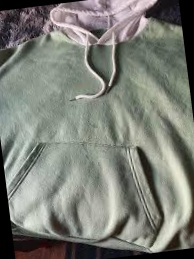oil: (72, 132, 102, 169), (87, 115, 102, 130)
